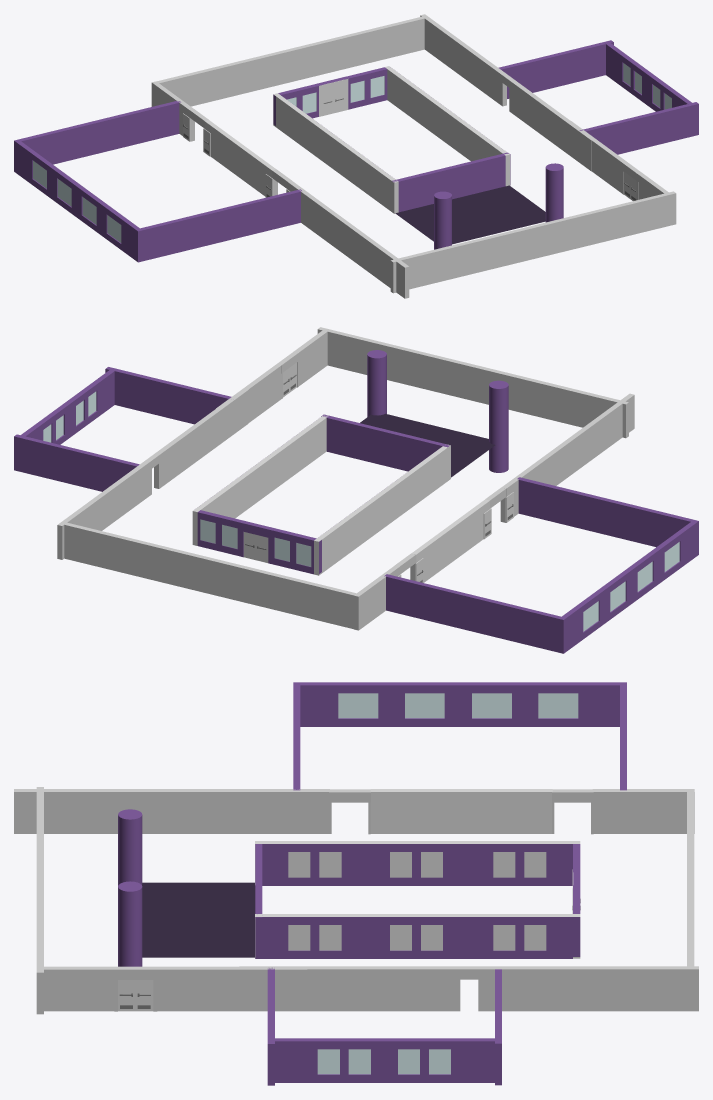
File: Walls.fbx
3 renders of one model, top to bottom at view 1: azimuth 30°, elevation 25°; view 2: azimuth 150°, elevation 25°; view 3: azimuth 270°, elevation 25°, orthographic. The views are drawn at different scales.
Visible parts, largest first — view 1: LongWall__21_, LongWall__10_, LongWall__22_, LongWall__14_, FloorMax__1_, LongWall__15_, LongWall__23_, LongWall__9_, LongWall__17_, LongWall__4_, LongWall__1_, LongWall__3_ (+18 smaller); view 2: LongWall__10_, LongWall__21_, LongWall__14_, LongWall__9_, LongWall__15_, LongWall__22_, LongWall__3_, LongWall__1_, LongWall__19_, LongWall__23_, LongWall__17_, LongWall__18_ (+19 smaller); view 3: LongWall__23_, LongWall__16_, FloorMax__1_, LongWall__8_, LongWall__25_, LongWall__24_, LongWall__15_, LongWall__14_, LongWall__7_, Glass, LongWall__27__1, Glass_1 (+52 smaller).
Boxes of the visible parts, x1,y1,x2,y2 form: LongWall__21_: [519, 191, 676, 261]; LongWall__10_: [244, 15, 428, 92]; LongWall__22_: [390, 223, 547, 293]; LongWall__14_: [273, 93, 398, 213]; FloorMax__1_: [395, 185, 546, 244]; LongWall__15_: [385, 66, 510, 186]; LongWall__23_: [287, 180, 409, 298]; LongWall__9_: [157, 52, 279, 106]; LongWall__17_: [392, 152, 510, 212]; LongWall__4_: [135, 204, 240, 262]; LongWall__1_: [76, 101, 180, 157]; LongWall__3_: [199, 189, 301, 247]; LongWall__10_: [59, 521, 261, 606]; LongWall__21_: [317, 327, 488, 403]; LongWall__14_: [314, 444, 450, 575]; LongWall__9_: [222, 561, 356, 628]; LongWall__15_: [192, 414, 328, 545]; LongWall__22_: [457, 361, 628, 438]; LongWall__3_: [517, 477, 630, 540]; LongWall__1_: [384, 574, 497, 637]; LongWall__19_: [14, 434, 139, 491]; LongWall__23_: [502, 393, 634, 516]; LongWall__17_: [321, 414, 449, 471]; LongWall__18_: [105, 367, 231, 424]; LongWall__23_: [14, 789, 329, 833]; LongWall__16_: [478, 966, 698, 1011]; FloorMax__1_: [142, 882, 255, 957]; LongWall__8_: [370, 789, 552, 833]; LongWall__25_: [239, 966, 460, 1011]; LongWall__24_: [155, 966, 307, 1011]; LongWall__15_: [255, 914, 580, 958]; LongWall__14_: [255, 841, 580, 884]; LongWall__7_: [592, 789, 694, 833]; Glass: [338, 693, 578, 718]; LongWall__27__1: [40, 966, 116, 1011]; Glass_1: [317, 1049, 450, 1074].
Size of the model in its own units: 48279 by 6524 by 38648.
